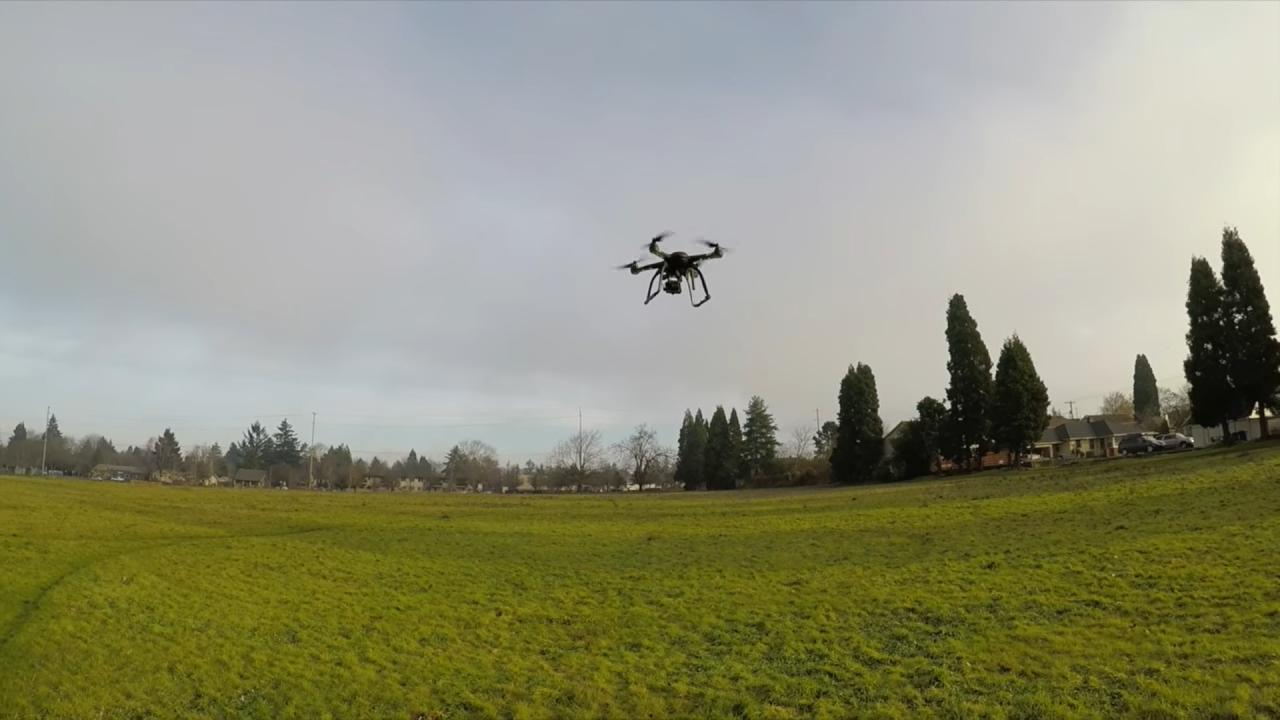Drone: (614, 219, 737, 320)
